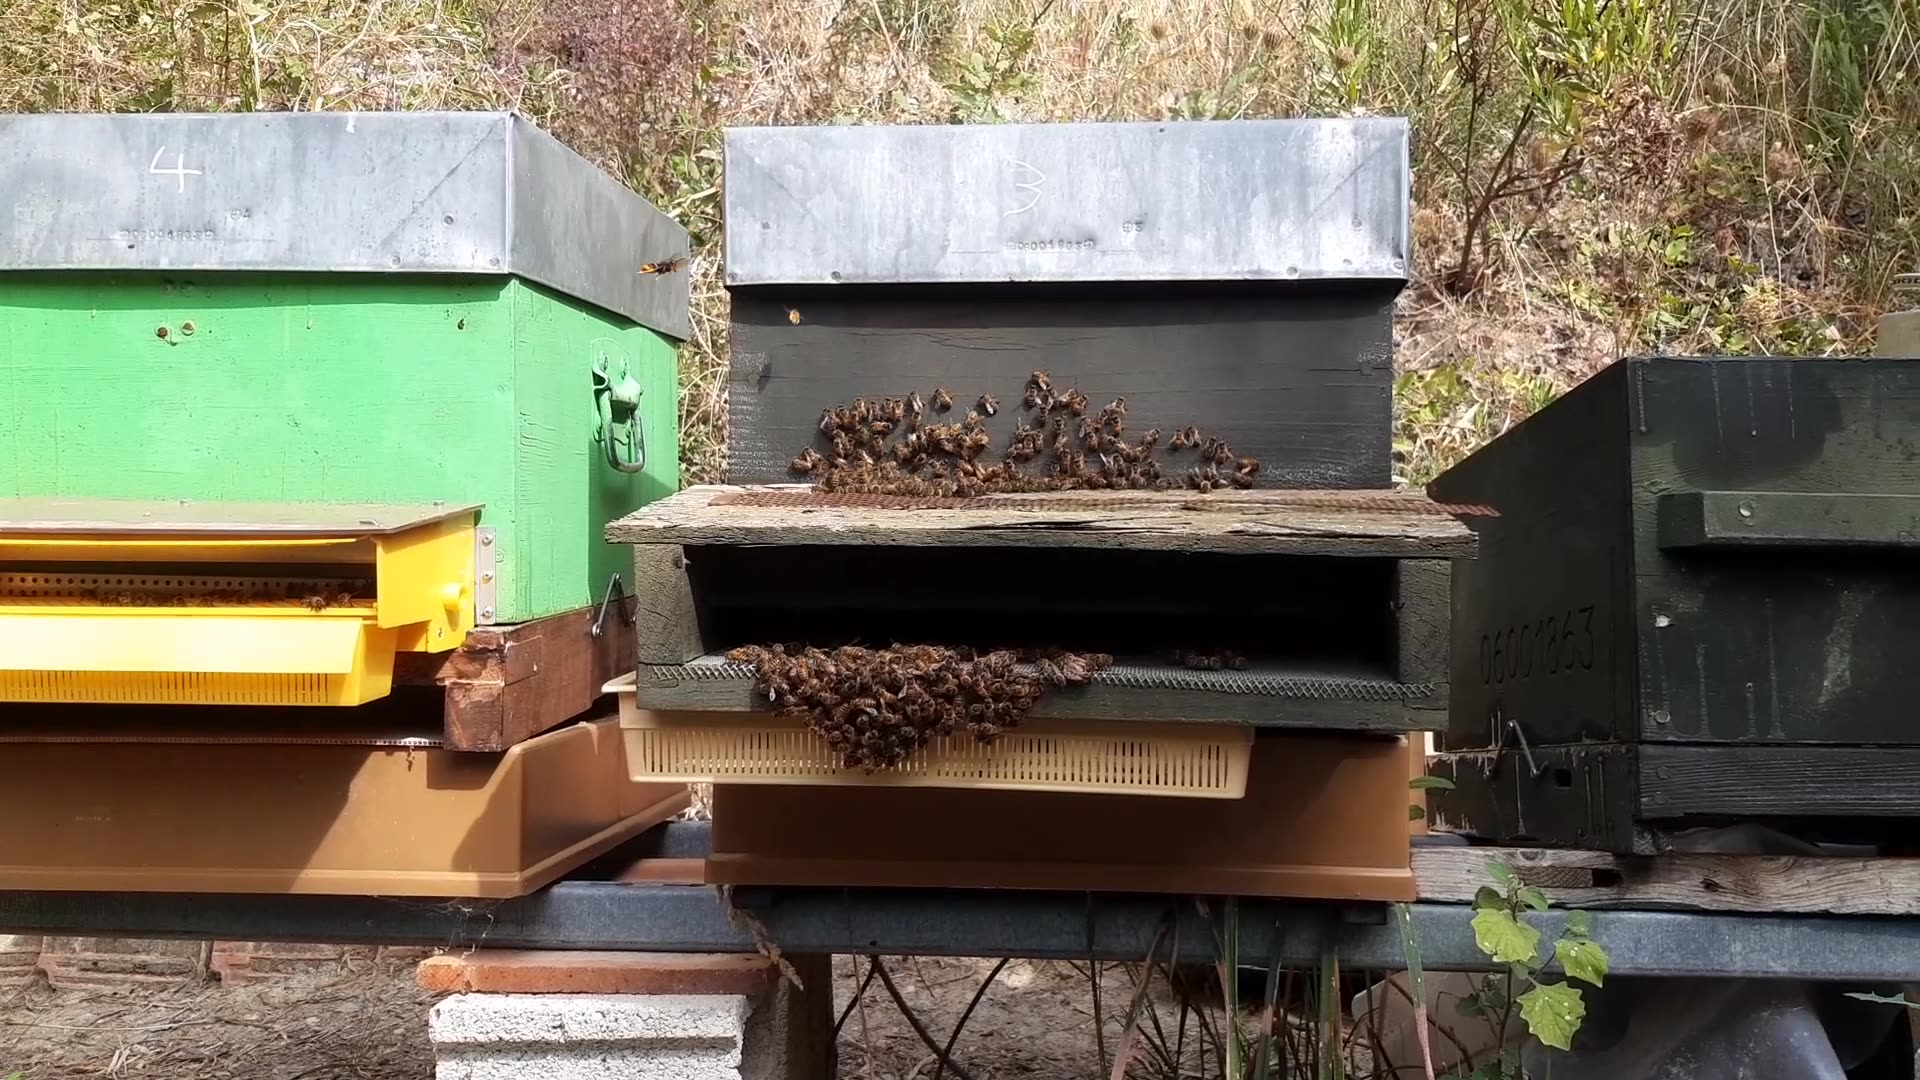bee: (1015, 646, 1116, 692), (758, 658, 815, 732), (1168, 450, 1242, 500), (831, 633, 924, 666), (1029, 393, 1087, 444), (1033, 448, 1088, 501), (831, 404, 899, 446), (953, 456, 1015, 502), (1143, 426, 1209, 468), (824, 444, 881, 493), (971, 386, 1021, 419), (670, 247, 711, 281)
